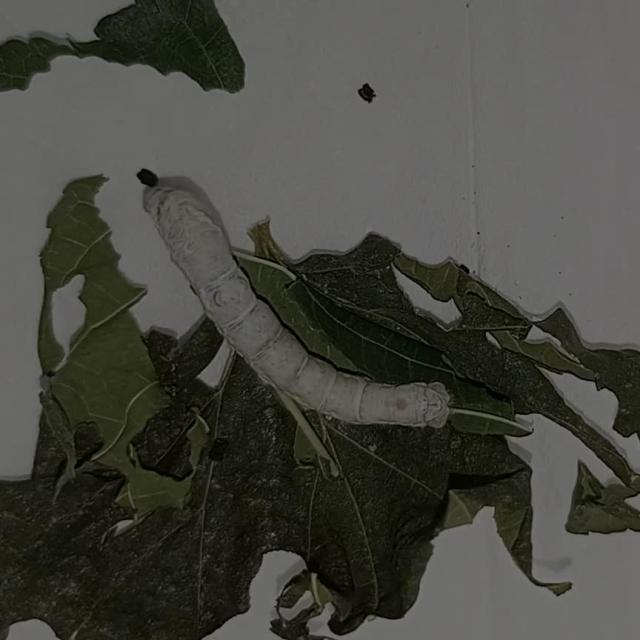Healthy: (114, 159, 484, 446)
